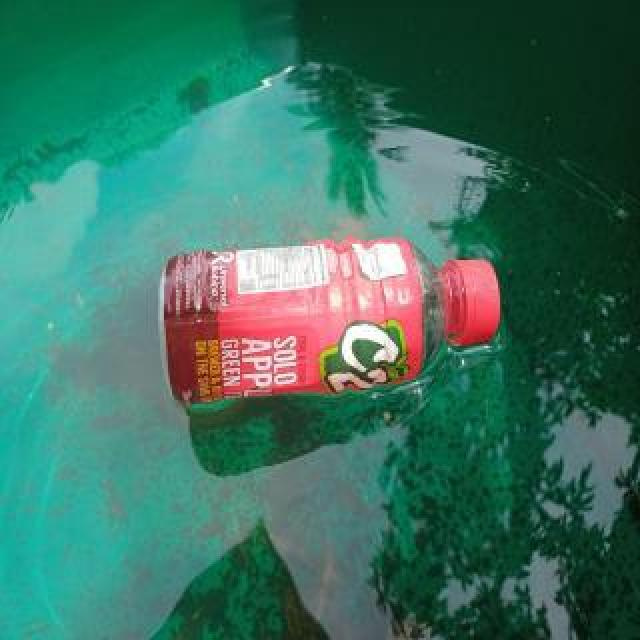bottle: (153, 228, 507, 410)
